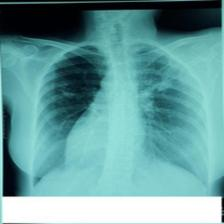tuberculosis: (26, 42, 212, 197)
